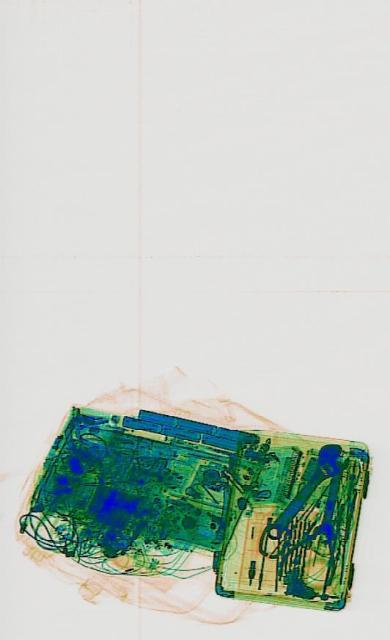Wrench: (259, 430, 348, 550), (309, 448, 350, 550)
